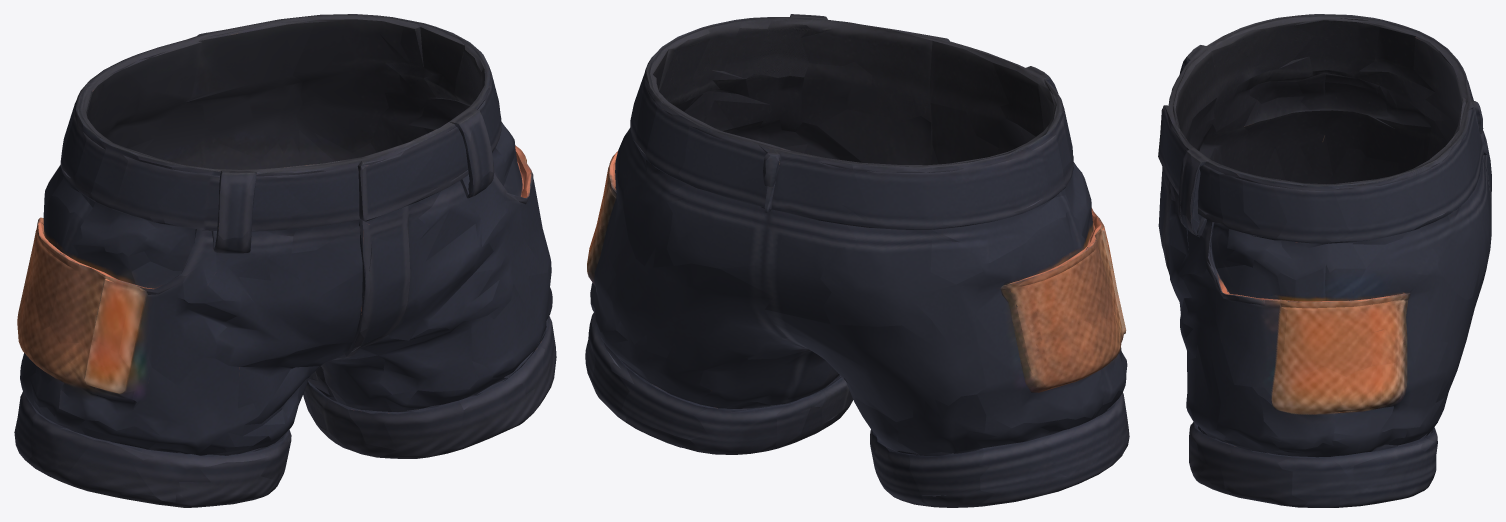
Rendered from bottom_workshort_v2.glb.
The picture shows the model from 3 angles, left to right: view 1: azimuth 30°, elevation 25°; view 2: azimuth 150°, elevation 25°; view 3: azimuth 270°, elevation 25°; orthographic projection. The views are drawn at different scales.
Parts seen in each view (by area): view 1: Mesh_0; view 2: Mesh_0; view 3: Mesh_0.
Boxes of the visible parts, x1,y1,x2,y2 form: Mesh_0: [14, 14, 556, 507]; Mesh_0: [585, 14, 1129, 507]; Mesh_0: [1158, 14, 1491, 507].
Size of the model in its own units: 1.9 by 1.26 by 1.15.
Materials: 1 (1 with a texture image).
